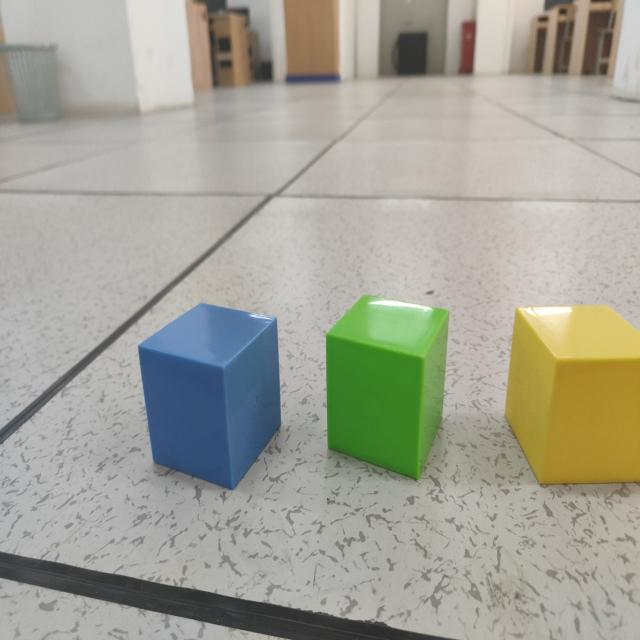blue: (137, 303, 282, 492)
green: (324, 297, 449, 482)
yellow: (506, 305, 640, 487)
